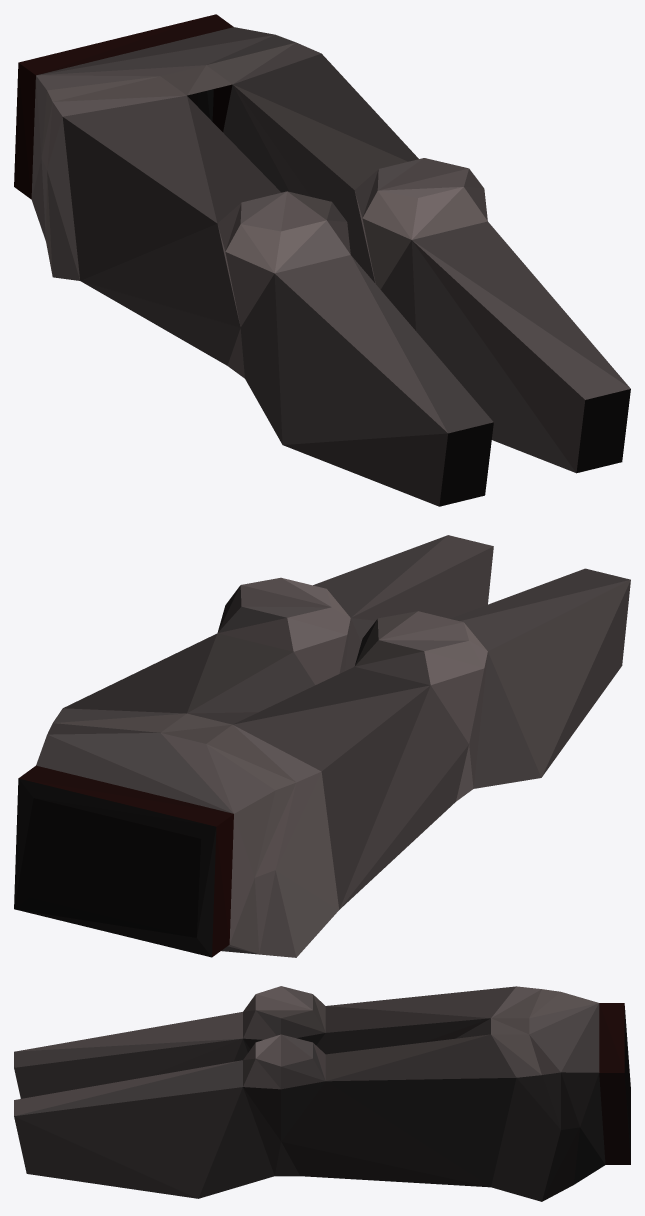
The model's file is steel-platelegs.obj.
3 renders of one model, top to bottom at view 1: azimuth 30°, elevation 25°; view 2: azimuth 150°, elevation 25°; view 3: azimuth 270°, elevation 25°, orthographic. The views are drawn at different scales.
Visible parts, largest first — view 1: Item Steel platelegs 2026-09-24_18-12-43; view 2: Item Steel platelegs 2026-09-24_18-12-43; view 3: Item Steel platelegs 2026-09-24_18-12-43.
Part boxes in pixels (x1,y1,x2,y2): Item Steel platelegs 2026-09-24_18-12-43: (14, 14, 630, 506); Item Steel platelegs 2026-09-24_18-12-43: (14, 535, 630, 957); Item Steel platelegs 2026-09-24_18-12-43: (14, 986, 630, 1201).
Bounding box in the file's own units: 34 × 24 × 97.
